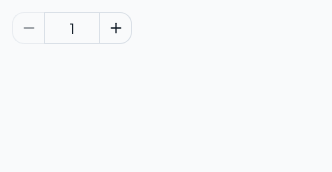
Test: QtyInput › steps up and down with the buttons and respects min/max
Check: the button named "Decrease quantity" is disabled, box left=12, top=12, right=44, bottom=44
Click the button named "Increase quantity": (116, 28) left=100, top=12, right=132, bottom=44
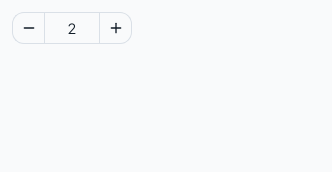
Click the button named "Decrease quantity": (28, 28) left=12, top=12, right=44, bottom=44
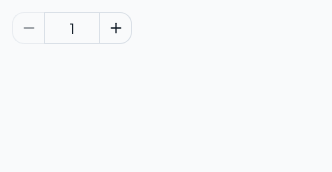
Click the button named "Increase quantity": (116, 28) left=100, top=12, right=132, bottom=44
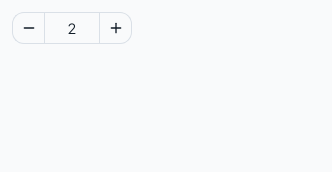
Click the button named "Increase quantity": (116, 28) left=100, top=12, right=132, bottom=44
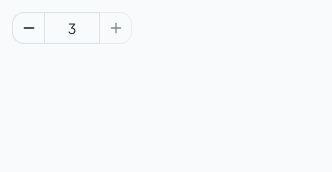
Check: the button named "Increase quantity" is disabled, box left=100, top=12, right=132, bottom=44
